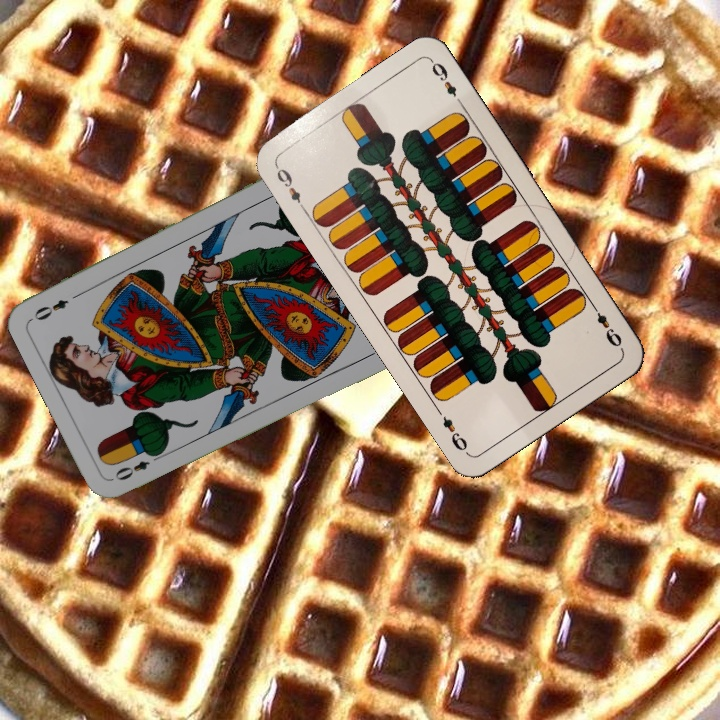E9: (271, 161, 309, 214), (587, 299, 625, 350)
EO: (110, 449, 165, 483)
